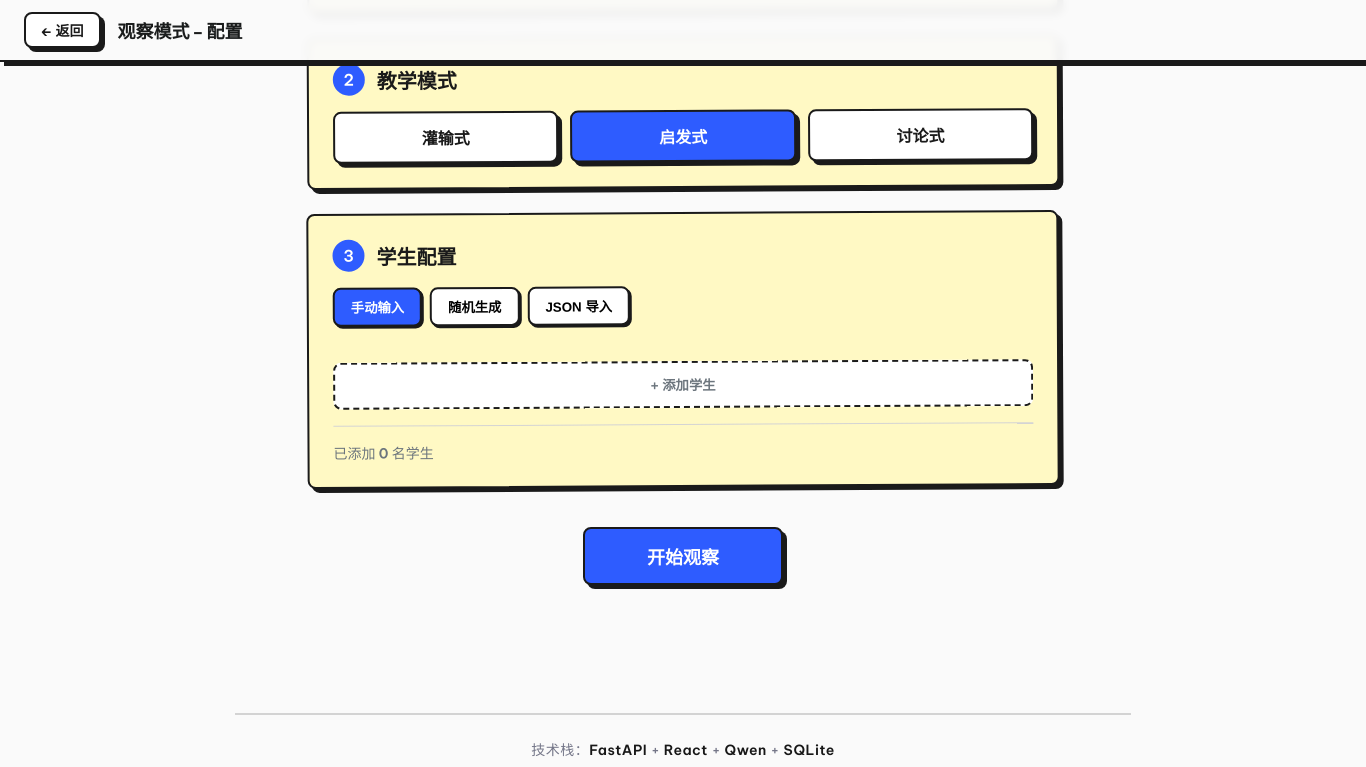
ObservationConfig › Manual student creation › adds a student with minimal required fields
(page scrolled)
Click the button "+ 添加学生": click(683, 385) left=333, top=359, right=1033, bottom=410
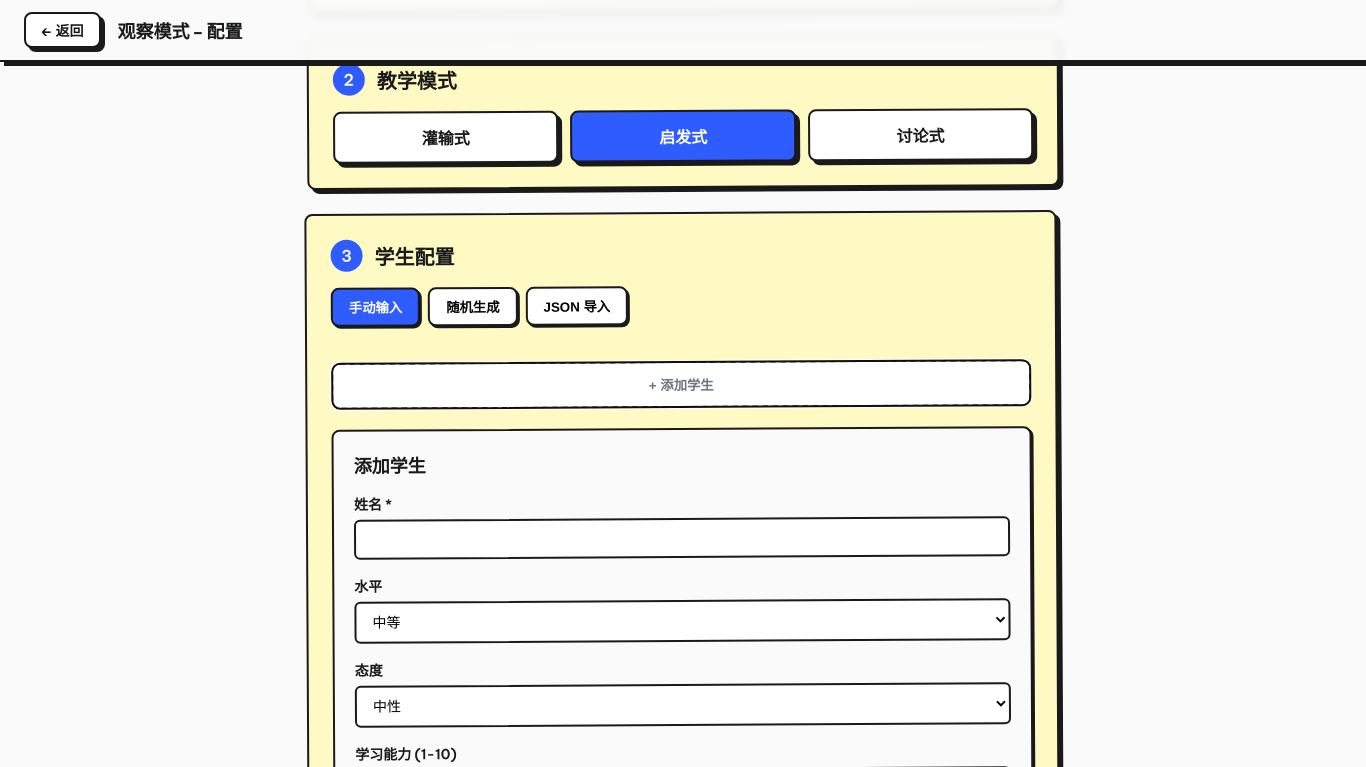
In the field labelled "姓名 *": (682, 538) left=354, top=516, right=1010, bottom=560, type "张三"
(page scrolled)
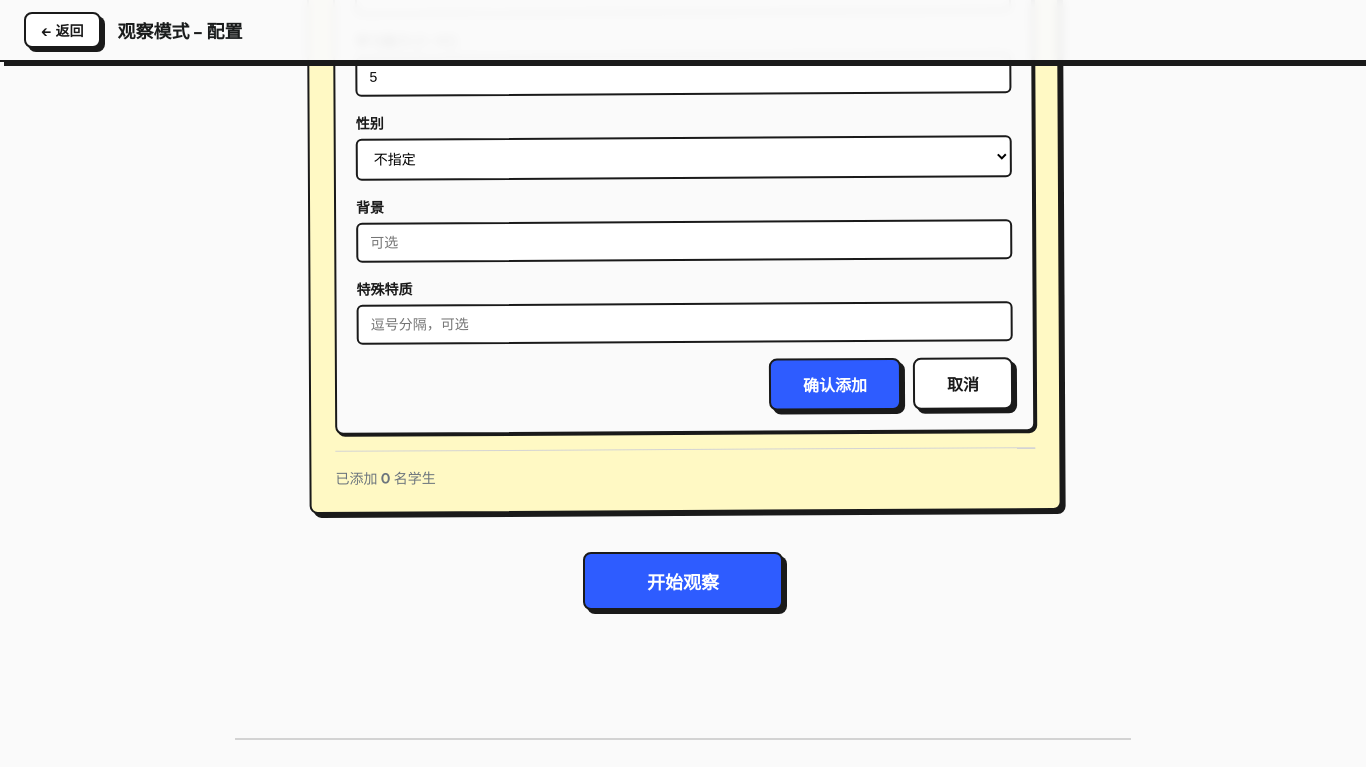
Click the button "确认添加": click(835, 384) left=769, top=358, right=901, bottom=411
(page scrolled)
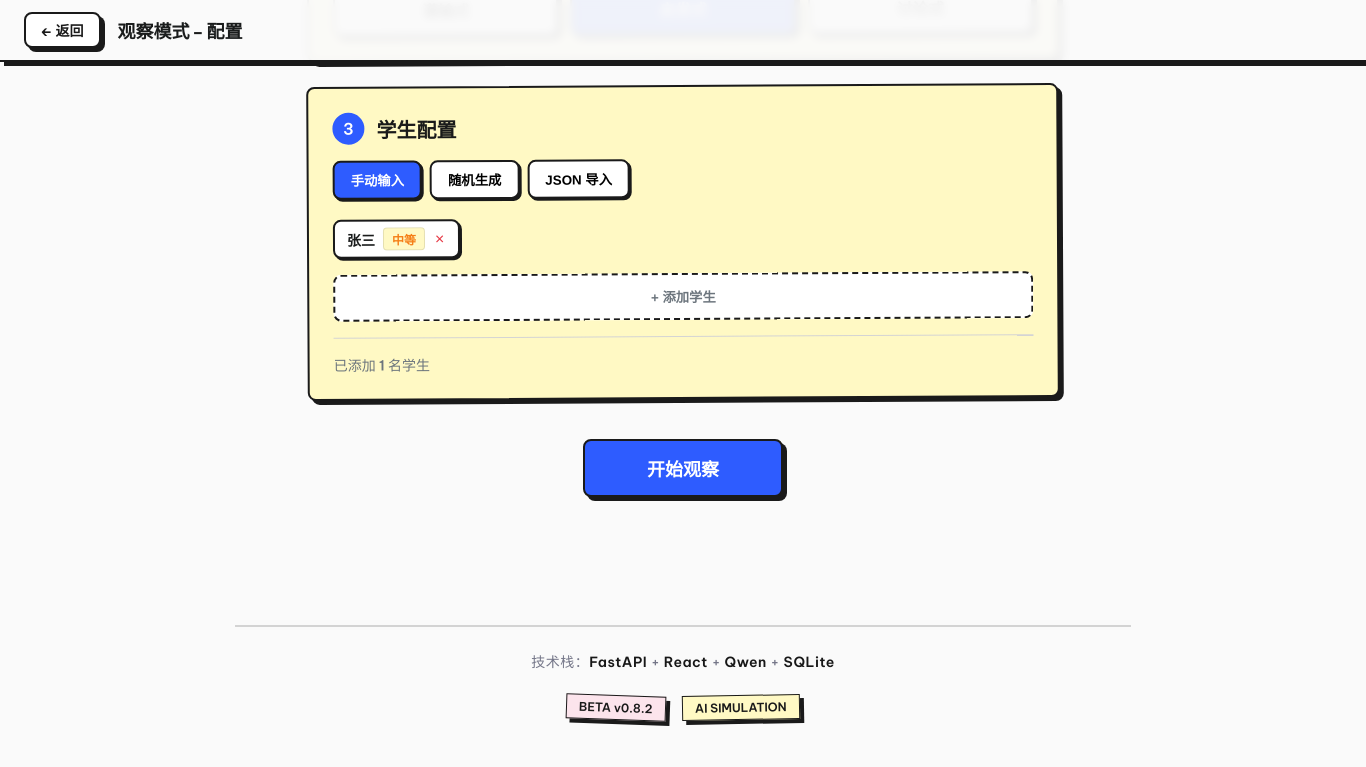
Now the text "张三" is shown, box left=347, top=229, right=375, bottom=249
